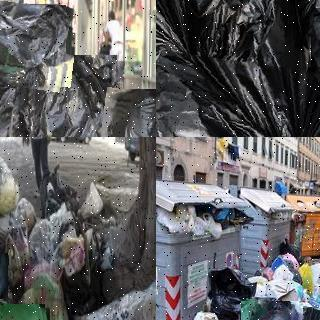Garbage: (156, 0, 315, 118), (156, 58, 320, 137), (8, 52, 121, 137), (0, 2, 68, 90), (73, 269, 156, 320), (204, 264, 266, 320), (99, 88, 156, 137), (267, 276, 307, 320), (238, 299, 301, 320), (0, 151, 19, 215), (274, 260, 301, 281), (299, 262, 315, 296), (188, 306, 224, 320)
